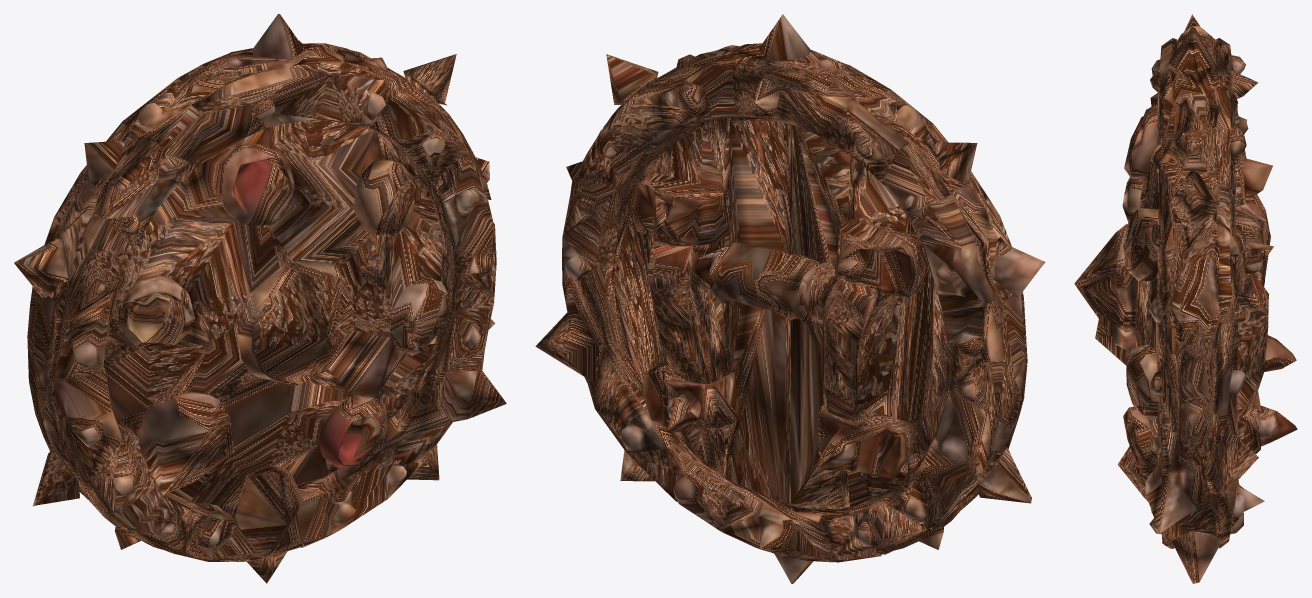
Rendered from shield.glb.
3 renders of one model, left to right at view 1: azimuth 30°, elevation 25°; view 2: azimuth 150°, elevation 25°; view 3: azimuth 270°, elevation 25°, orthographic. The views are drawn at different scales.
Visible parts, largest first — view 1: Mesh_0; view 2: Mesh_0; view 3: Mesh_0.
Boxes of the visible parts, x1,y1,x2,y2 form: Mesh_0: (14,14,506,583); Mesh_0: (535,14,1045,583); Mesh_0: (1074,14,1297,583).
Bounding box in the file's own units: 1.74 × 1.9 × 0.7106.
Materials: 1 (1 with a texture image).
